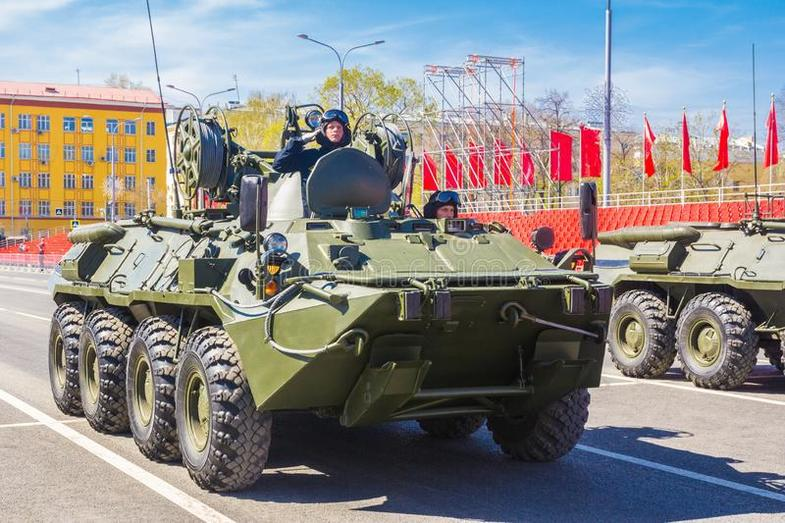btr: (50, 181, 606, 481)
